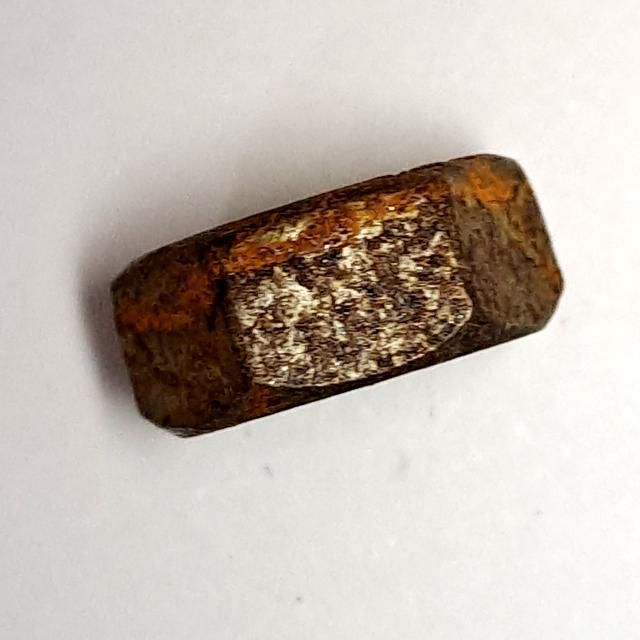Side_Rust: (96, 130, 586, 456)
